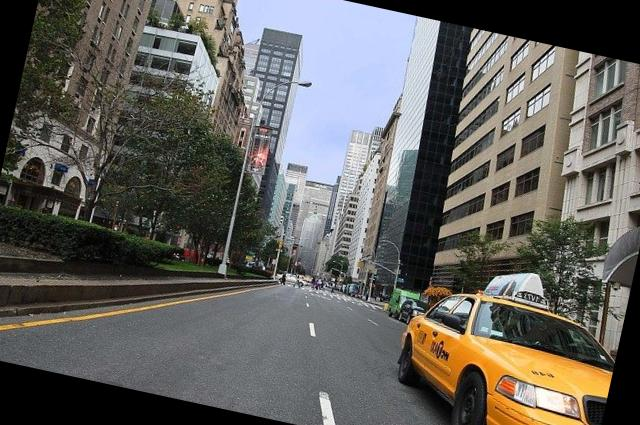taxi: (396, 300, 638, 425)
